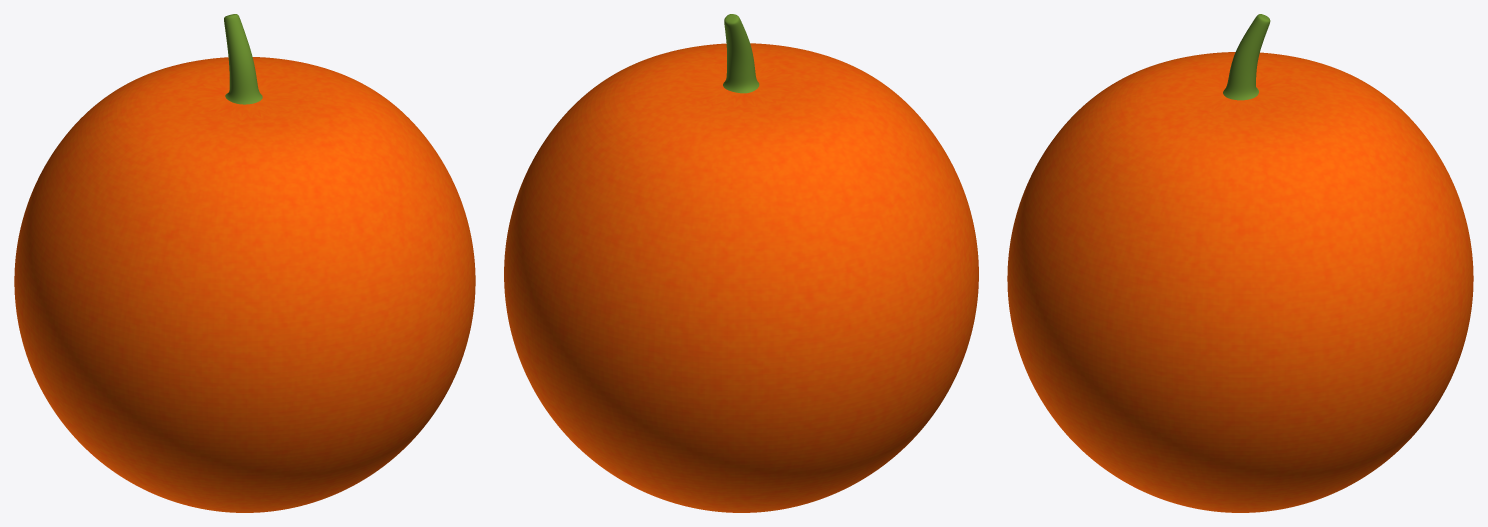
File: Orange.fbx
3 views of the same model, side by side, from view 1: azimuth 30°, elevation 25°; view 2: azimuth 150°, elevation 25°; view 3: azimuth 270°, elevation 25° (orthographic). The views are drawn at different scales.
Parts seen in each view (by area): view 1: orange; view 2: orange; view 3: orange.
Boxes of the visible parts, x1=… form: orange: x1=14, y1=14, x2=475, y2=512; orange: x1=504, y1=14, x2=978, y2=512; orange: x1=1007, y1=14, x2=1473, y2=512.
Bounding box in the file's own units: 561 × 632 × 561.
1 material, 1 textured.
